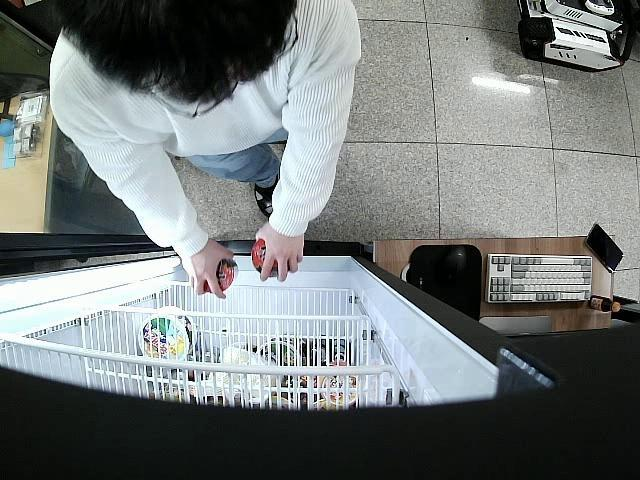02_shinRamen_S: (252, 238, 292, 278), (203, 257, 240, 294)
